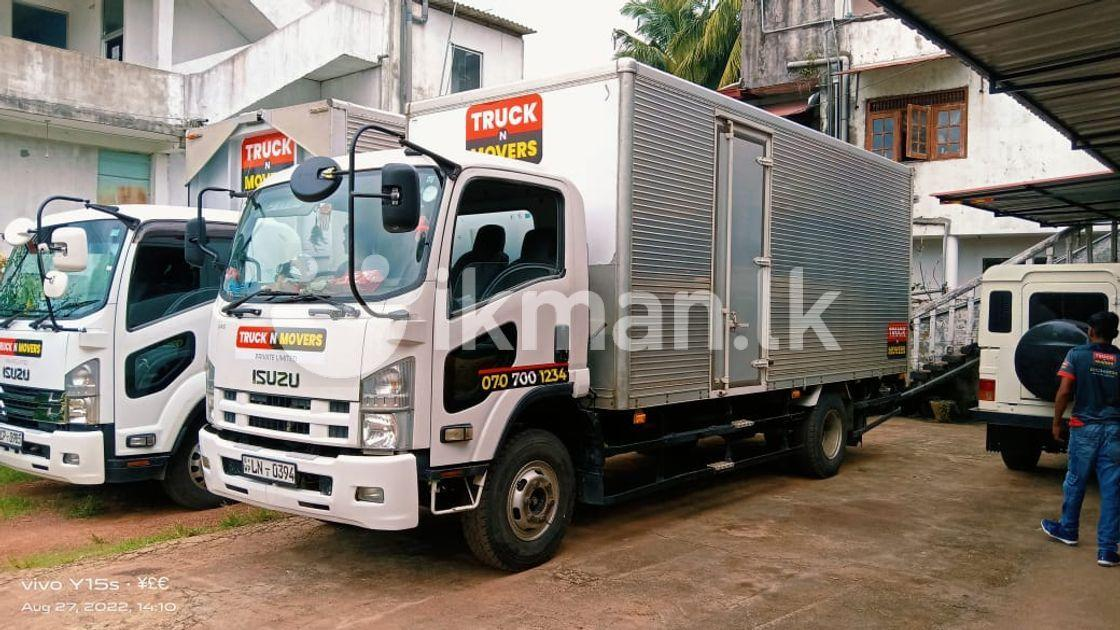truck: (183, 54, 915, 573), (1, 196, 248, 514)
